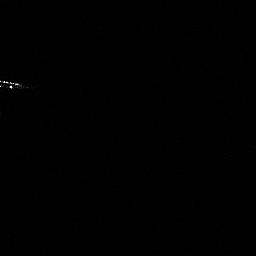ship: (1, 77, 32, 90)
